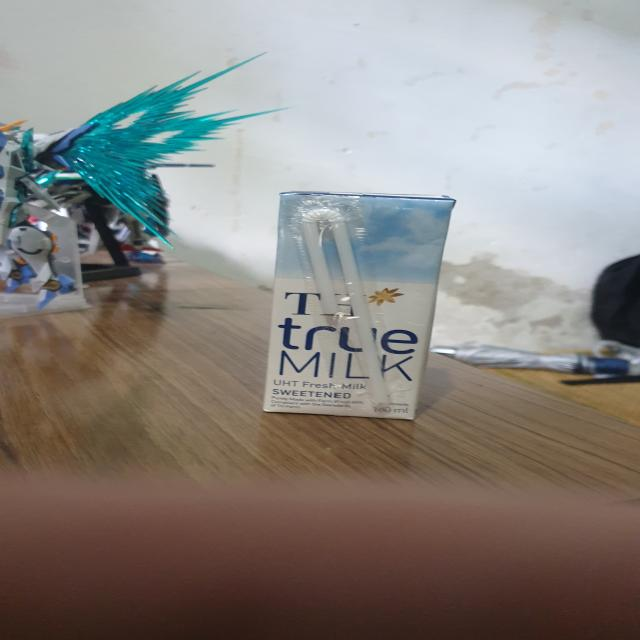TH: (265, 196, 452, 422)
